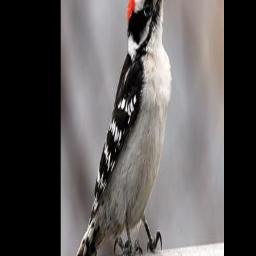Woodpecker: (77, 0, 173, 256)
